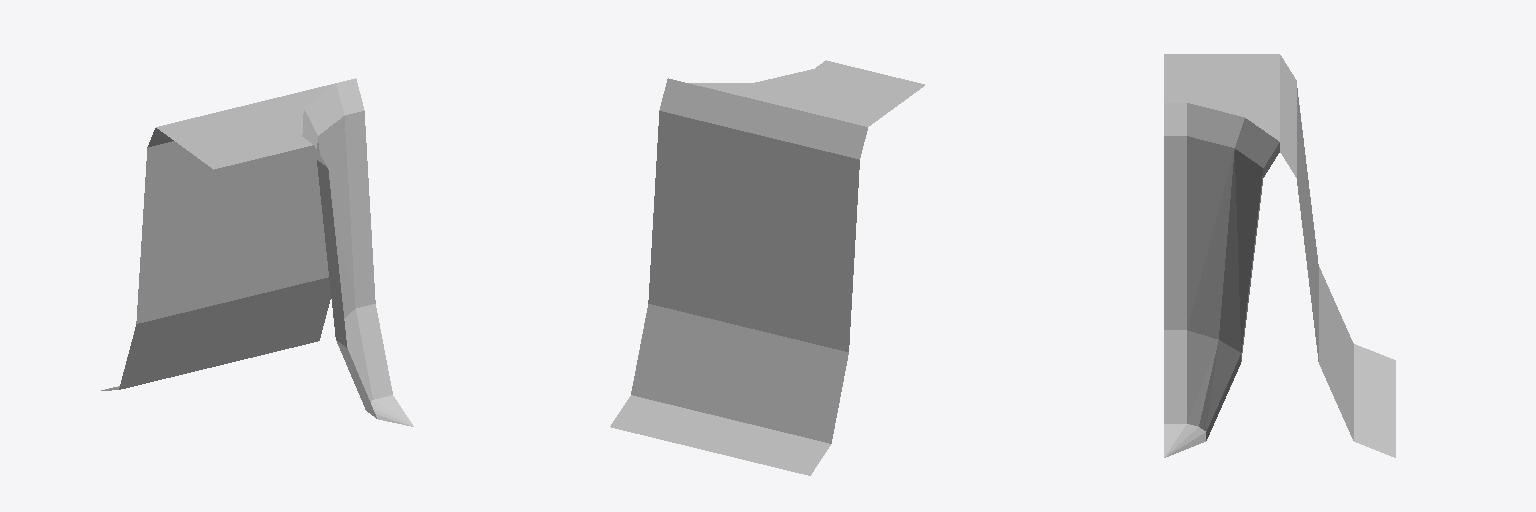
File: wall_06.obj
The picture shows the model from 3 angles: view 1: azimuth 30°, elevation 25°; view 2: azimuth 150°, elevation 25°; view 3: azimuth 270°, elevation 25°; orthographic projection.
Parts seen in each view (by area): view 1: wall_06_Cave_Wall_Inner.016; view 2: wall_06_Cave_Wall_Inner.016; view 3: wall_06_Cave_Wall_Inner.016.
Part boxes in pixels (left/top/right/bottom): wall_06_Cave_Wall_Inner.016: left=101, top=78, right=413, bottom=426; wall_06_Cave_Wall_Inner.016: left=610, top=60, right=924, bottom=475; wall_06_Cave_Wall_Inner.016: left=1164, top=54, right=1395, bottom=457.
Size of the model in its own units: 1 by 1.46 by 1.